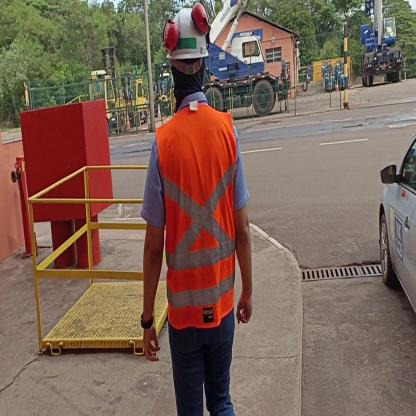Balaclava: (170, 62, 205, 106)
Capacete: (162, 2, 209, 60)
colete: (158, 116, 240, 328)
